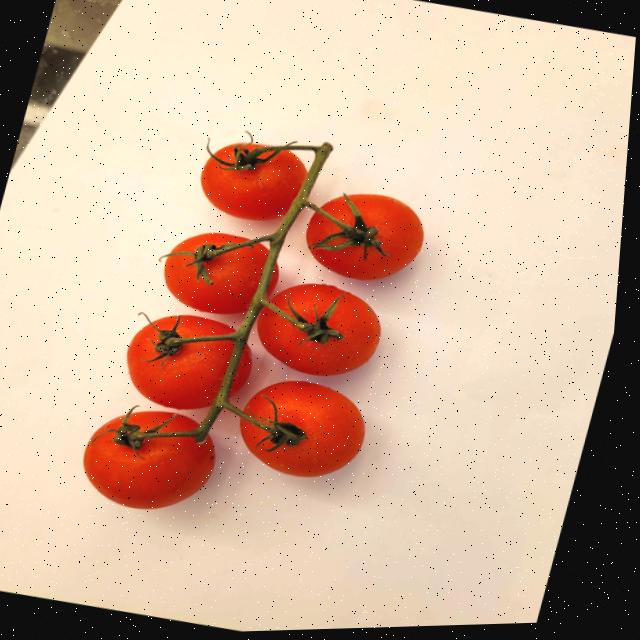ripe2: (83, 416, 215, 509), (240, 381, 365, 477), (257, 284, 381, 376), (306, 194, 423, 280), (127, 324, 233, 409), (164, 243, 269, 316), (201, 150, 307, 221), (153, 315, 232, 337), (128, 412, 198, 432), (173, 233, 245, 252), (214, 143, 268, 163), (231, 345, 252, 394), (268, 264, 279, 296)
